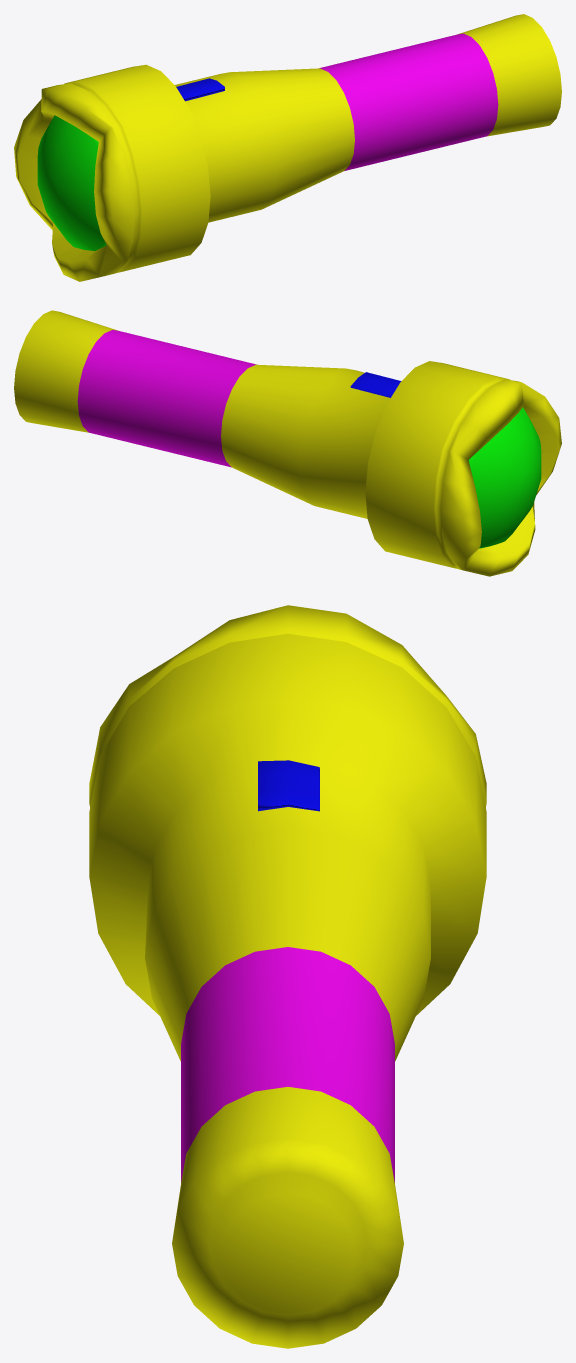
File: Lanterna.fbx
3 renders of one model, top to bottom at view 1: azimuth 30°, elevation 25°; view 2: azimuth 150°, elevation 25°; view 3: azimuth 270°, elevation 25°, orthographic. The views are drawn at different scales.
Parts seen in each view (by area): view 1: pSphere2; view 2: pSphere2; view 3: pSphere2.
Part boxes in pixels (bbox=[...]): pSphere2: bbox=[14, 14, 561, 281]; pSphere2: bbox=[14, 310, 561, 576]; pSphere2: bbox=[89, 605, 486, 1348].
Size of the model in its own units: 18.38 by 6.39 by 6.39.
